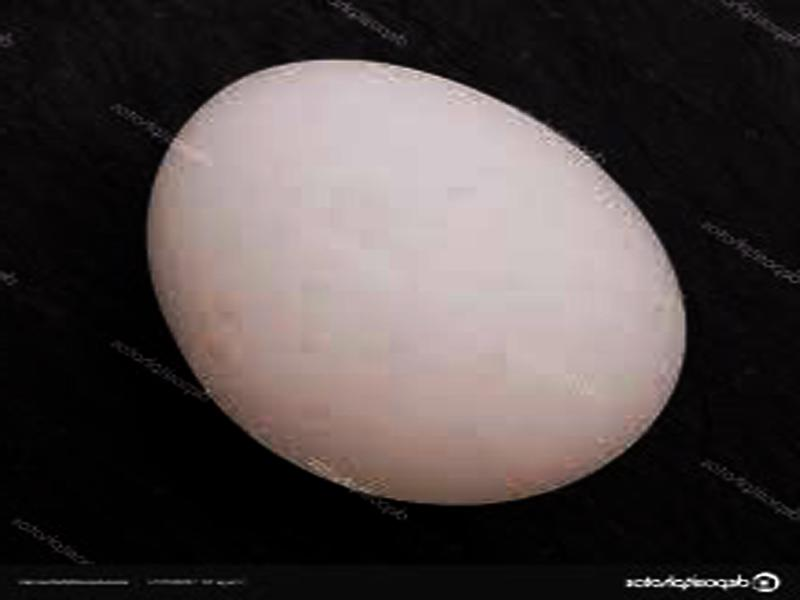Eggs: (146, 62, 685, 506)
